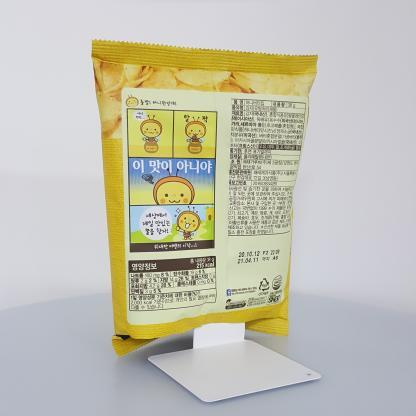Plastic Packaging: (85, 32, 323, 368)
